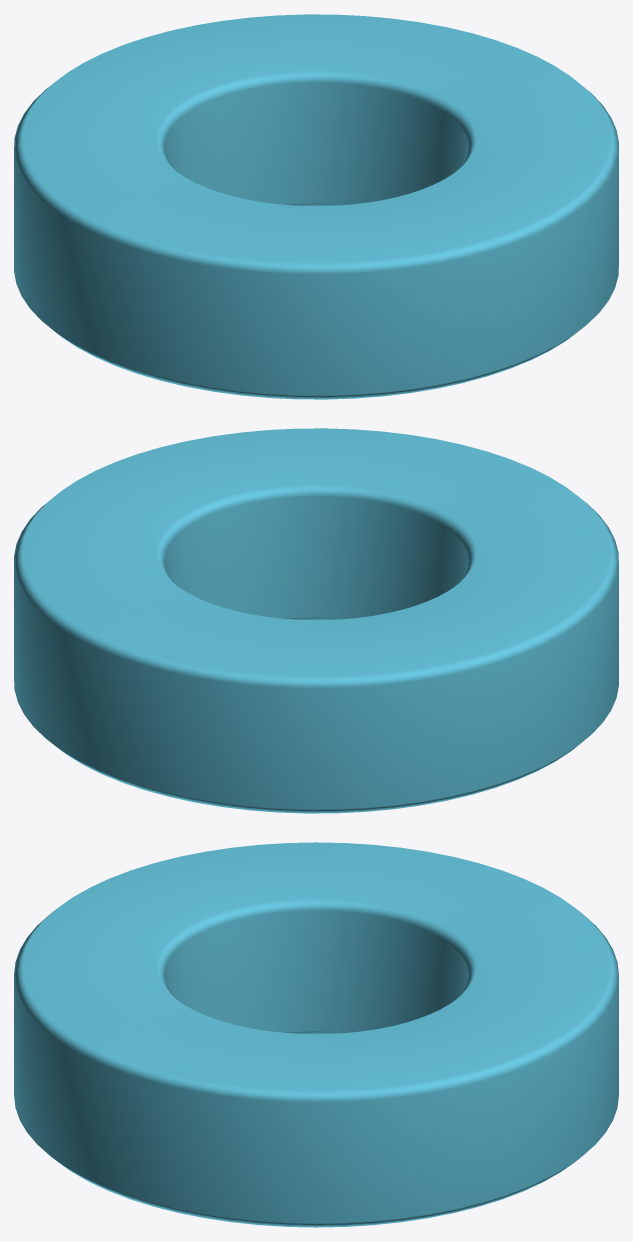
3 renders of one model, top to bottom at view 1: azimuth 30°, elevation 25°; view 2: azimuth 150°, elevation 25°; view 3: azimuth 270°, elevation 25°, orthographic.
Parts seen in each view (by area): view 1: seal_body; view 2: seal_body; view 3: seal_body.
Part boxes in pixels (x1,y1,x2,y2): seal_body: (14, 14, 618, 399); seal_body: (14, 428, 618, 813); seal_body: (14, 842, 618, 1227).
Size of the model in its own units: 0.0254 by 0.00635 by 0.0254.
